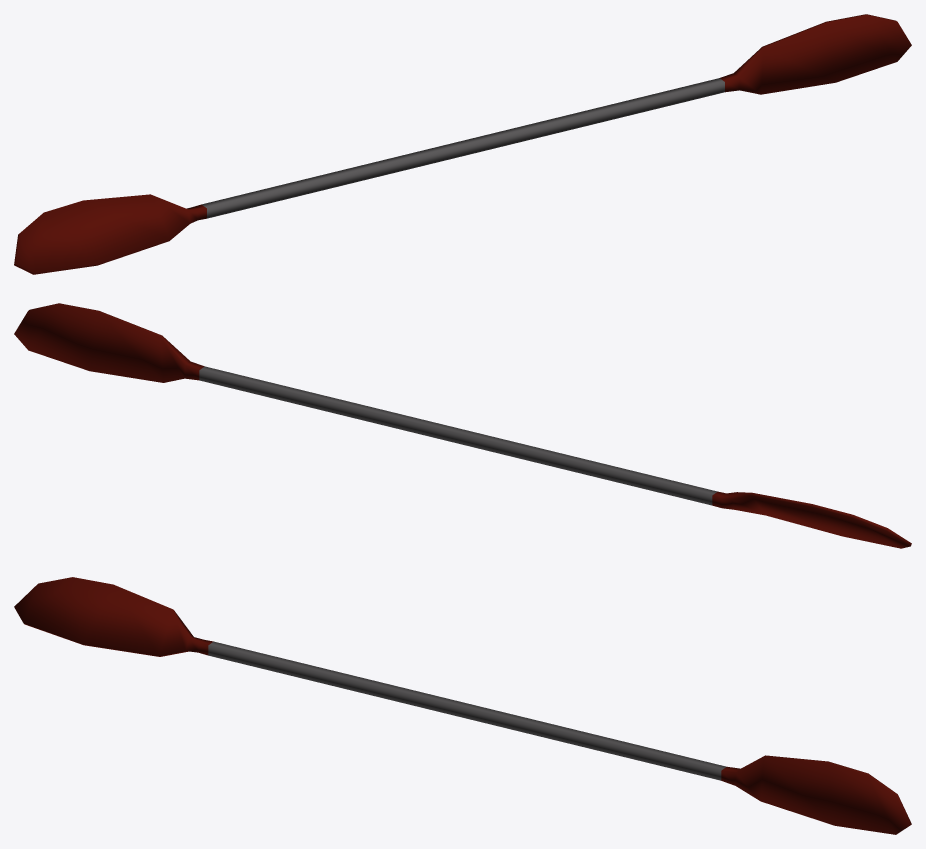
File: character_paddle.glb
3 views of the same model, one above another, from view 1: azimuth 30°, elevation 25°; view 2: azimuth 150°, elevation 25°; view 3: azimuth 330°, elevation 25° (orthographic).
Parts seen in each view (by area): view 1: Paddle; view 2: Paddle; view 3: Paddle.
Part boxes in pixels (bbox=[...]): Paddle: bbox=[14, 14, 911, 274]; Paddle: bbox=[14, 303, 911, 548]; Paddle: bbox=[14, 577, 911, 834].
Bounding box in the file's own units: 2.96 × 0.1938 × 0.1398.
